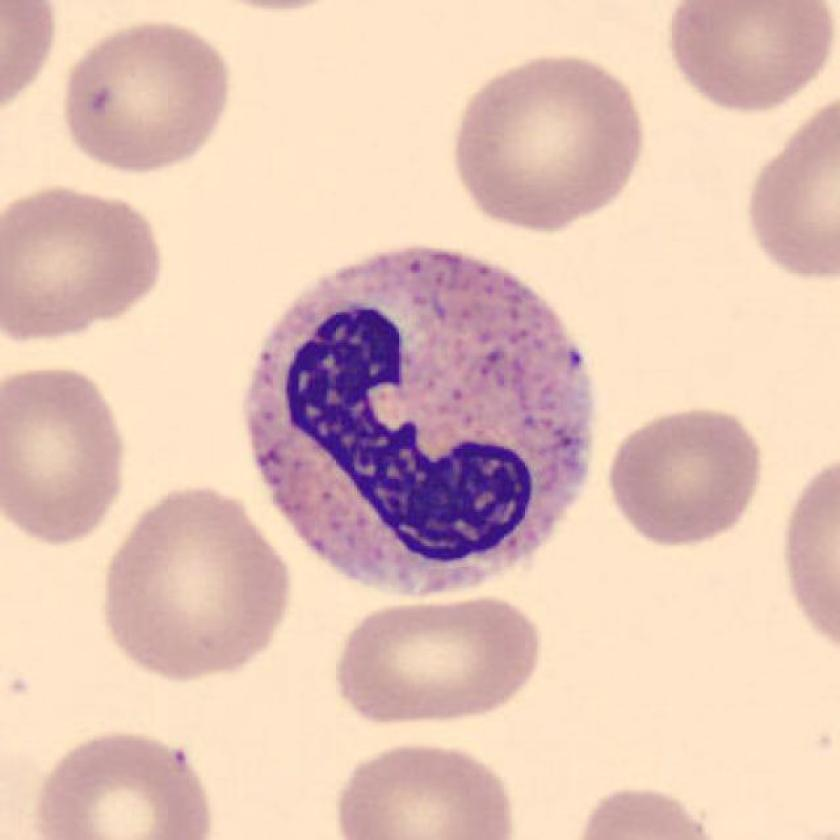neutrophil: (248, 248, 592, 592)
